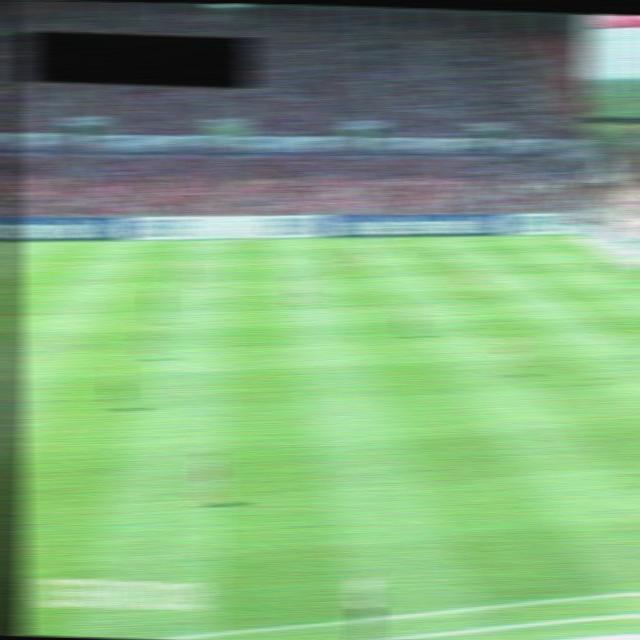bigarea_top_inner: (491, 255, 514, 267)
bigarea_top_outter: (603, 255, 625, 266)
bottom_arc_area_intersection: (607, 336, 638, 351)
corner: (554, 231, 576, 243)
halfcircle_bottom: (210, 362, 233, 373)
halfcircle_top: (214, 287, 237, 298)
midline_bottom_intersection: (197, 626, 221, 640)
midline_top_intersection: (216, 234, 239, 246)
smallarea_top_inner: (616, 279, 638, 290)
top_arc_area_intersection: (533, 285, 563, 302)
